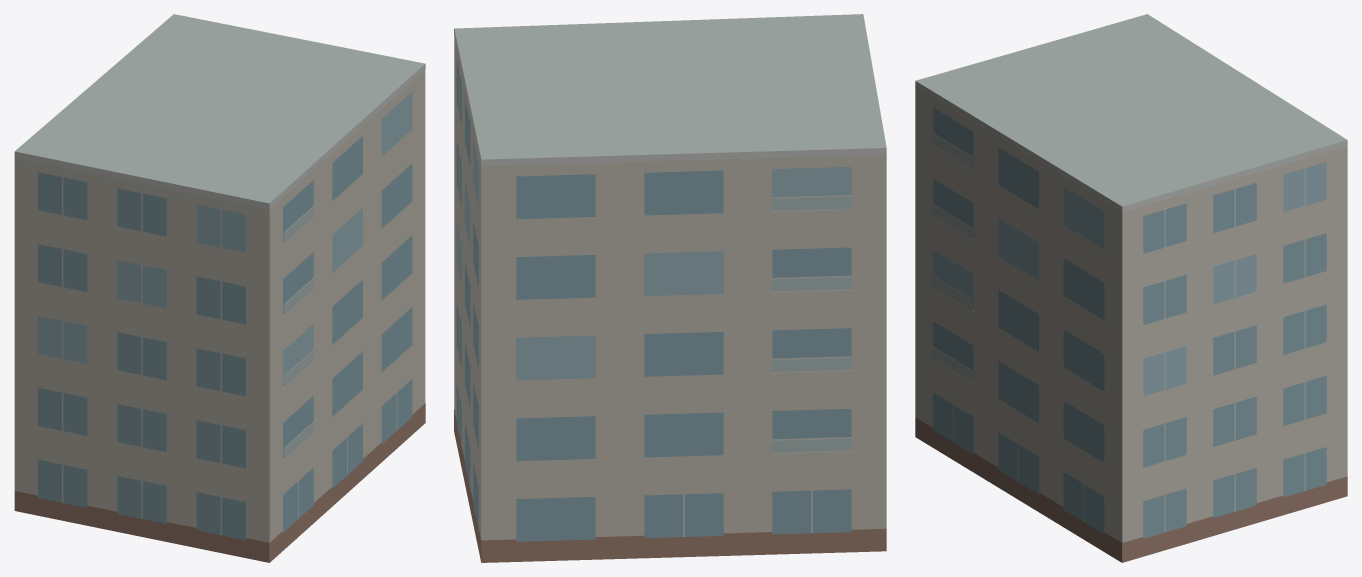
The model's file is survey-upis-32774630.glb.
3 views of the same model, side by side, from view 1: azimuth 30°, elevation 25°; view 2: azimuth 150°, elevation 25°; view 3: azimuth 270°, elevation 25° (orthographic). The views are drawn at different scales.
Visible parts, largest first — view 1: survey-upis-32774630.tmp; view 2: survey-upis-32774630.tmp; view 3: survey-upis-32774630.tmp.
Part boxes in pixels (x1=…): survey-upis-32774630.tmp: x1=14, y1=14, x2=425, y2=562; survey-upis-32774630.tmp: x1=454, y1=14, x2=886, y2=562; survey-upis-32774630.tmp: x1=915, y1=14, x2=1347, y2=562.
Size of the model in its own units: 17.05 by 14.7 by 16.17.
